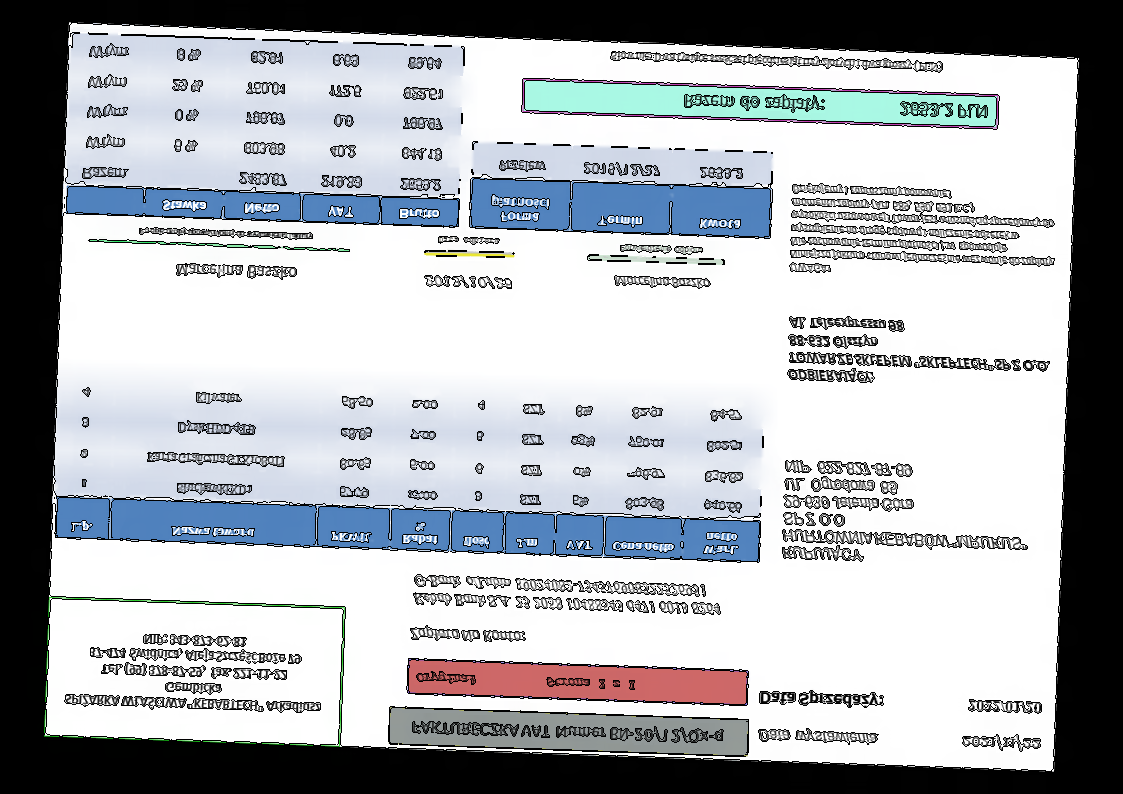Table: (54, 373, 767, 566), (64, 31, 466, 228), (468, 141, 774, 240)
TextBox: (778, 457, 1032, 571), (787, 181, 1058, 284), (61, 628, 324, 719), (784, 313, 1054, 393), (411, 572, 723, 620), (408, 715, 726, 748), (608, 47, 945, 76), (682, 91, 987, 123), (413, 667, 640, 694), (757, 686, 888, 712), (136, 224, 315, 242), (755, 724, 883, 749), (407, 624, 530, 648), (174, 261, 297, 281), (958, 731, 1044, 754), (422, 273, 516, 292), (613, 273, 712, 291), (964, 697, 1046, 716), (618, 242, 704, 257), (437, 234, 501, 249)
